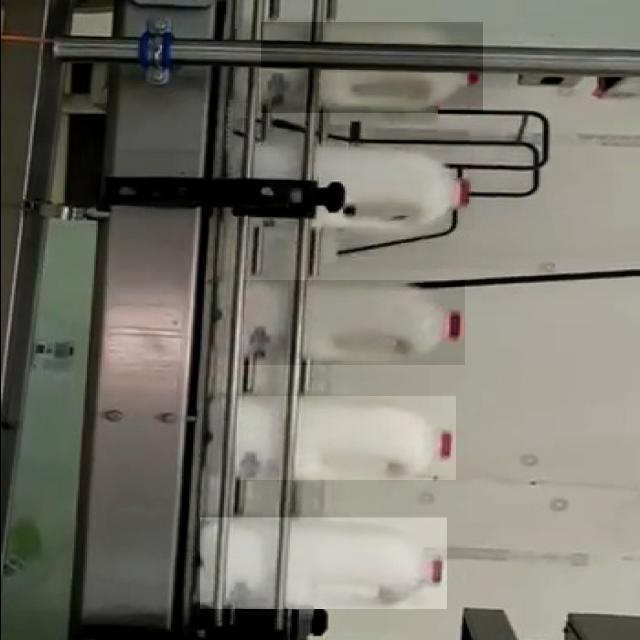milk: (250, 140, 476, 245), (202, 513, 446, 609), (260, 20, 490, 118), (236, 398, 455, 486), (242, 279, 464, 362)
